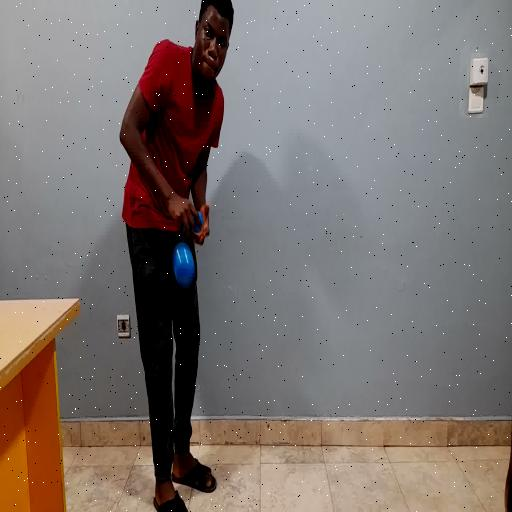plastic-ball: (172, 243, 196, 287)
